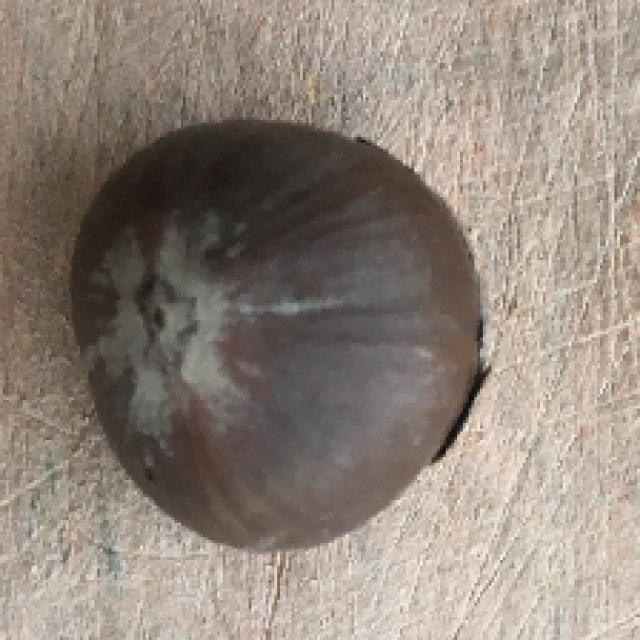damagedHazelnut: (57, 114, 481, 554)
